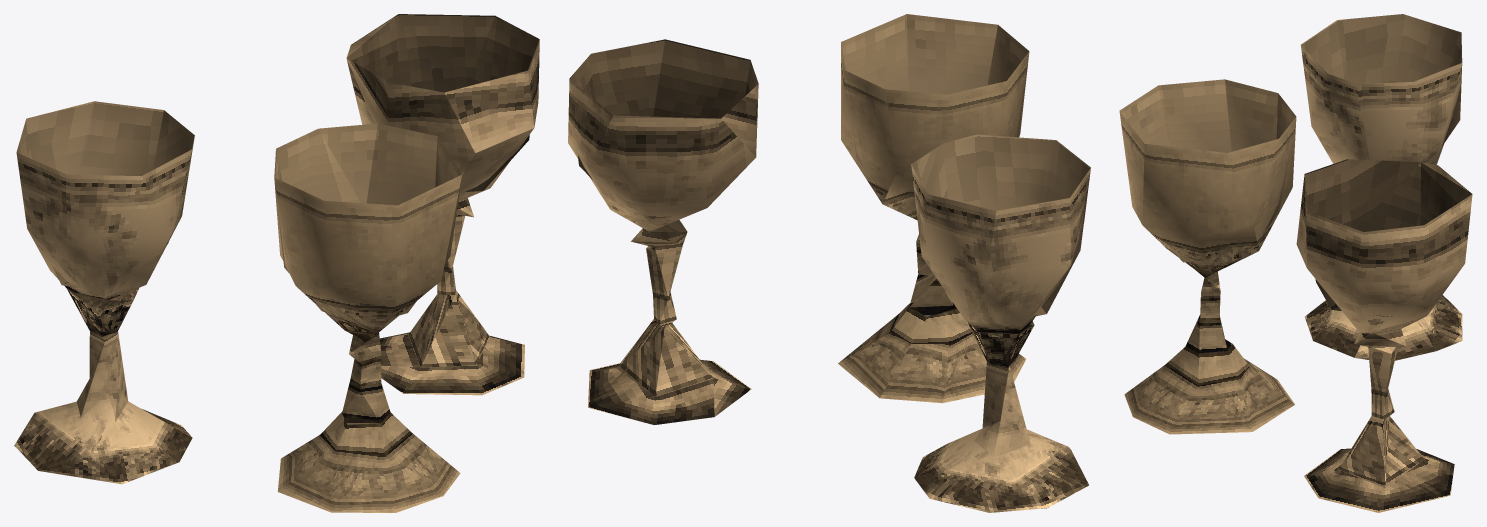
Rendered from brass_goblets.glb.
3 views of the same model, side by side, from view 1: azimuth 30°, elevation 25°; view 2: azimuth 150°, elevation 25°; view 3: azimuth 270°, elevation 25° (orthographic). The views are drawn at different scales.
Visible parts, largest first — view 1: brass_goblet_01, brass_goblet_02, brass_goblet_03; view 2: brass_goblet_02, brass_goblet_03, brass_goblet_01; view 3: brass_goblet_01, brass_goblet_03, brass_goblet_02.
Part boxes in pixels (bbox=[...]): brass_goblet_01: bbox=[274, 123, 462, 512]; brass_goblet_02: bbox=[14, 101, 194, 484]; brass_goblet_03: bbox=[346, 14, 539, 395]; brass_goblet_02: bbox=[911, 134, 1090, 512]; brass_goblet_03: bbox=[568, 39, 758, 424]; brass_goblet_01: bbox=[838, 14, 1029, 403]; brass_goblet_01: bbox=[1119, 79, 1296, 434]; brass_goblet_03: bbox=[1296, 159, 1472, 512]; brass_goblet_02: bbox=[1300, 14, 1462, 360].
Size of the model in its own units: 0.4542 by 0.2715 by 0.3023.
Materials: 3 (3 with a texture image).
